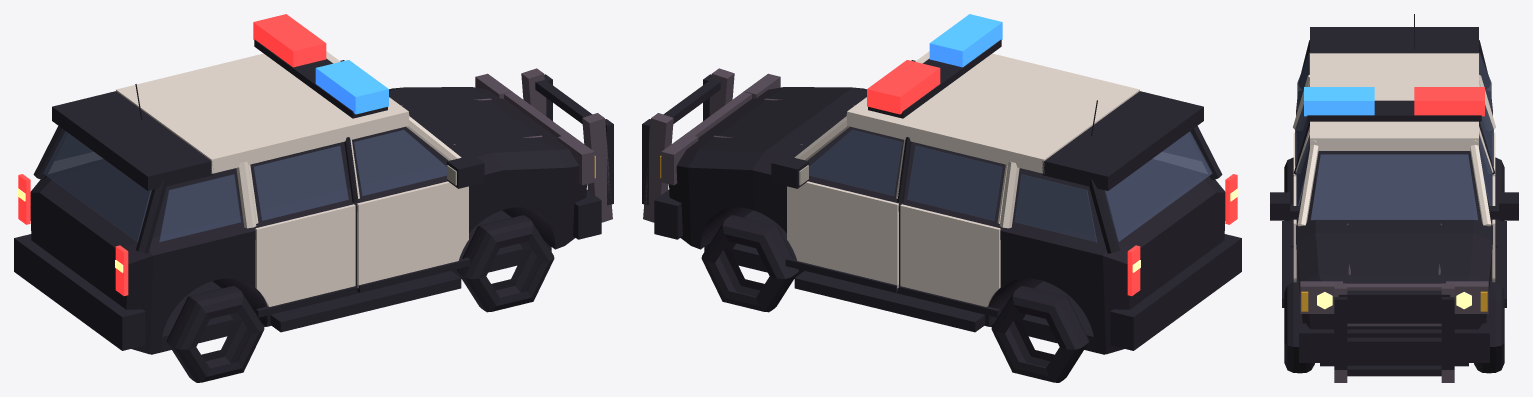
3 views of the same model, side by side, from view 1: azimuth 30°, elevation 25°; view 2: azimuth 150°, elevation 25°; view 3: azimuth 270°, elevation 25° (orthographic). The views are drawn at different scales.
Visible parts, largest first — view 1: body__pal_uiDark, body__pal_picketWhite, body__pal_denim, doorR__pal_picketWhite, doorRearR__pal_picketWhite, wheelRR__pal_uiDark, wheelFR__pal_uiDark, doorRearR__pal_denim, doorR__pal_denim, body_pal_asphalt, sirenR__emi_policeBlue, sirenL__emi_sirenRed (+6 smaller); view 2: body__pal_uiDark, body__pal_picketWhite, body__pal_denim, doorL__pal_picketWhite, doorRearL__pal_picketWhite, wheelRL__pal_uiDark, wheelFL__pal_uiDark, doorRearL__pal_denim, doorL__pal_denim, body_pal_asphalt, sirenL__emi_sirenRed, sirenR__emi_policeBlue (+6 smaller); view 3: body__pal_uiDark, body__pal_picketWhite, body__pal_denim, sirenL__emi_sirenRed, sirenR__emi_policeBlue, body_pal_asphalt, lightbar__pal_uiDark, wheelFL__pal_uiDark, wheelFR__pal_uiDark, lampHeadL_pal_asphalt, lampHeadR_pal_asphalt, doorL__pal_uiDark (+11 smaller).
Part boxes in pixels (x1=…): body__pal_uiDark: x1=14, y1=74, x2=613, y2=354; body__pal_picketWhite: x1=116, y1=51, x2=461, y2=228; body__pal_denim: x1=43, y1=131, x2=241, y2=242; doorR__pal_picketWhite: x1=350, y1=140, x2=468, y2=288; doorRearR__pal_picketWhite: x1=248, y1=164, x2=355, y2=306; wheelRR__pal_uiDark: x1=167, y1=286, x2=264, y2=382; wheelFR__pal_uiDark: x1=457, y1=215, x2=554, y2=312; doorRearR__pal_denim: x1=253, y1=145, x2=348, y2=220; doorR__pal_denim: x1=353, y1=130, x2=446, y2=196; body_pal_asphalt: x1=401, y1=68, x2=612, y2=222; sirenR__emi_policeBlue: x1=315, y1=60, x2=388, y2=114; sirenL__emi_sirenRed: x1=253, y1=14, x2=326, y2=67; body__pal_uiDark: x1=642, y1=74, x2=1241, y2=354; body__pal_picketWhite: x1=794, y1=51, x2=1139, y2=228; body__pal_denim: x1=1014, y1=131, x2=1212, y2=242; doorL__pal_picketWhite: x1=787, y1=140, x2=905, y2=288; doorRearL__pal_picketWhite: x1=900, y1=164, x2=1007, y2=306; wheelRL__pal_uiDark: x1=991, y1=286, x2=1088, y2=382; wheelFL__pal_uiDark: x1=701, y1=215, x2=798, y2=312; doorRearL__pal_denim: x1=907, y1=145, x2=1002, y2=220; doorL__pal_denim: x1=809, y1=130, x2=902, y2=196; body_pal_asphalt: x1=643, y1=68, x2=854, y2=222; sirenL__emi_sirenRed: x1=867, y1=60, x2=940, y2=114; sirenR__emi_policeBlue: x1=929, y1=14, x2=1002, y2=67; body__pal_uiDark: x1=1282, y1=14, x2=1506, y2=376; body__pal_picketWhite: x1=1293, y1=53, x2=1495, y2=226; body__pal_denim: x1=1297, y1=52, x2=1491, y2=220; sirenL__emi_sirenRed: x1=1414, y1=87, x2=1484, y2=116; sirenR__emi_policeBlue: x1=1304, y1=87, x2=1374, y2=116; body_pal_asphalt: x1=1334, y1=223, x2=1454, y2=382; lightbar__pal_uiDark: x1=1307, y1=100, x2=1481, y2=121; wheelFL__pal_uiDark: x1=1474, y1=282, x2=1504, y2=373; wheelFR__pal_uiDark: x1=1284, y1=282, x2=1314, y2=373; lampHeadL_pal_asphalt: x1=1446, y1=281, x2=1488, y2=313; lampHeadR_pal_asphalt: x1=1300, y1=281, x2=1342, y2=313; doorL__pal_uiDark: x1=1488, y1=192, x2=1518, y2=282.
Size of the model in its own units: 5.24 by 2.42 by 2.5.
